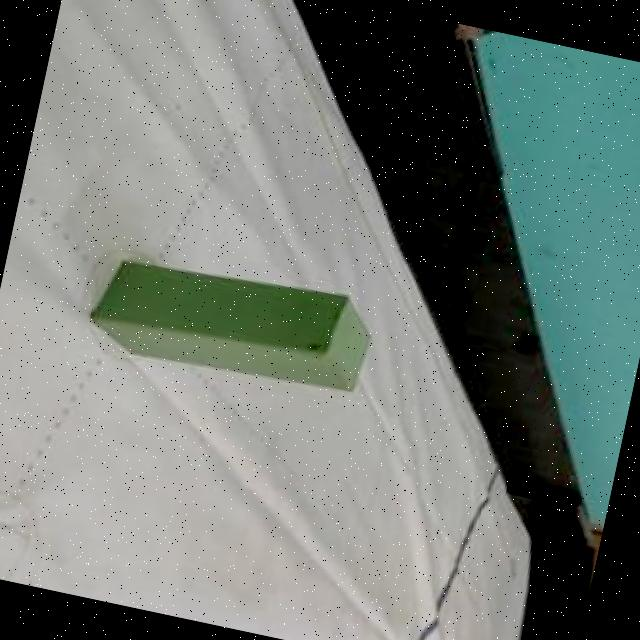greenbox: (78, 238, 382, 408)
